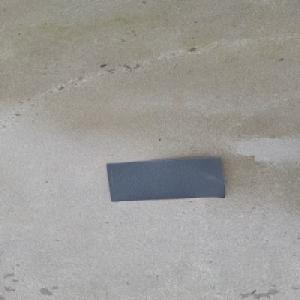PaintChip: (105, 156, 226, 202)
